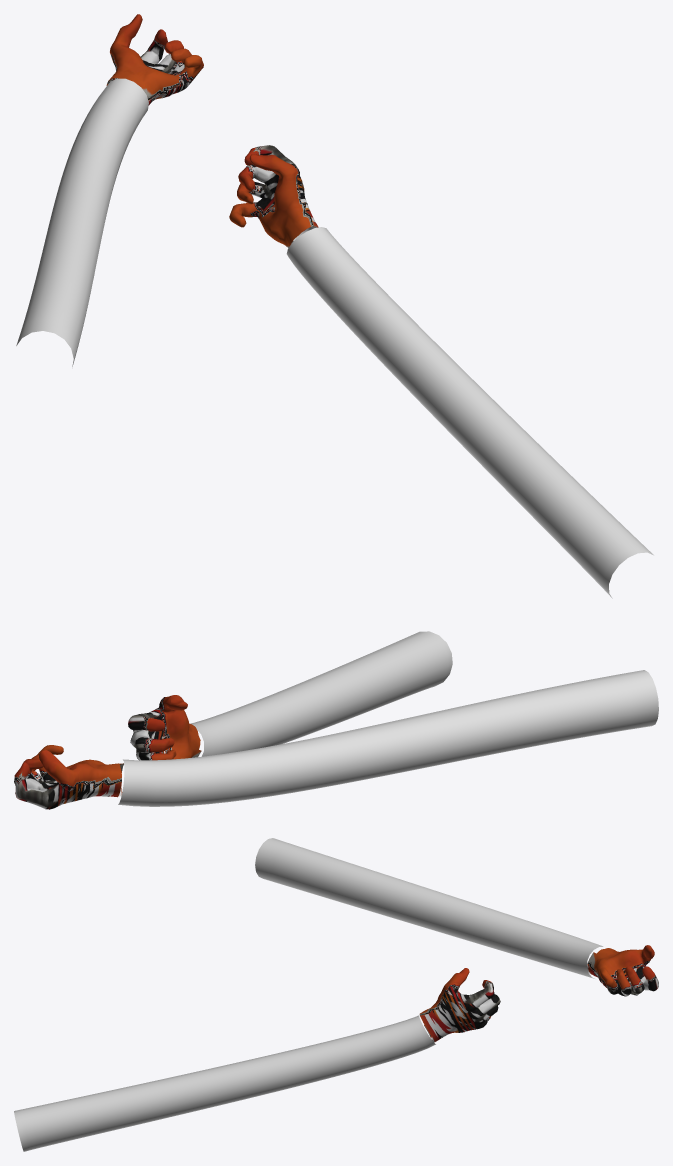
Rendered from fpa_awm.glb.
The picture shows the model from 3 angles, top to bottom: view 1: azimuth 30°, elevation 25°; view 2: azimuth 150°, elevation 25°; view 3: azimuth 270°, elevation 25°; orthographic projection. The views are drawn at different scales.
Parts seen in each view (by area): view 1: arms, hands; view 2: arms, hands; view 3: arms, hands.
Boxes of the visible parts, bbox=[...] form: arms: bbox=[16, 78, 653, 598]; hands: bbox=[106, 14, 318, 247]; arms: bbox=[118, 631, 658, 806]; hands: bbox=[14, 695, 201, 809]; arms: bbox=[14, 838, 603, 1151]; hands: bbox=[419, 945, 658, 1042].
Size of the model in its own units: 0.878 by 0.4952 by 1.53.
1 material, 1 textured.
